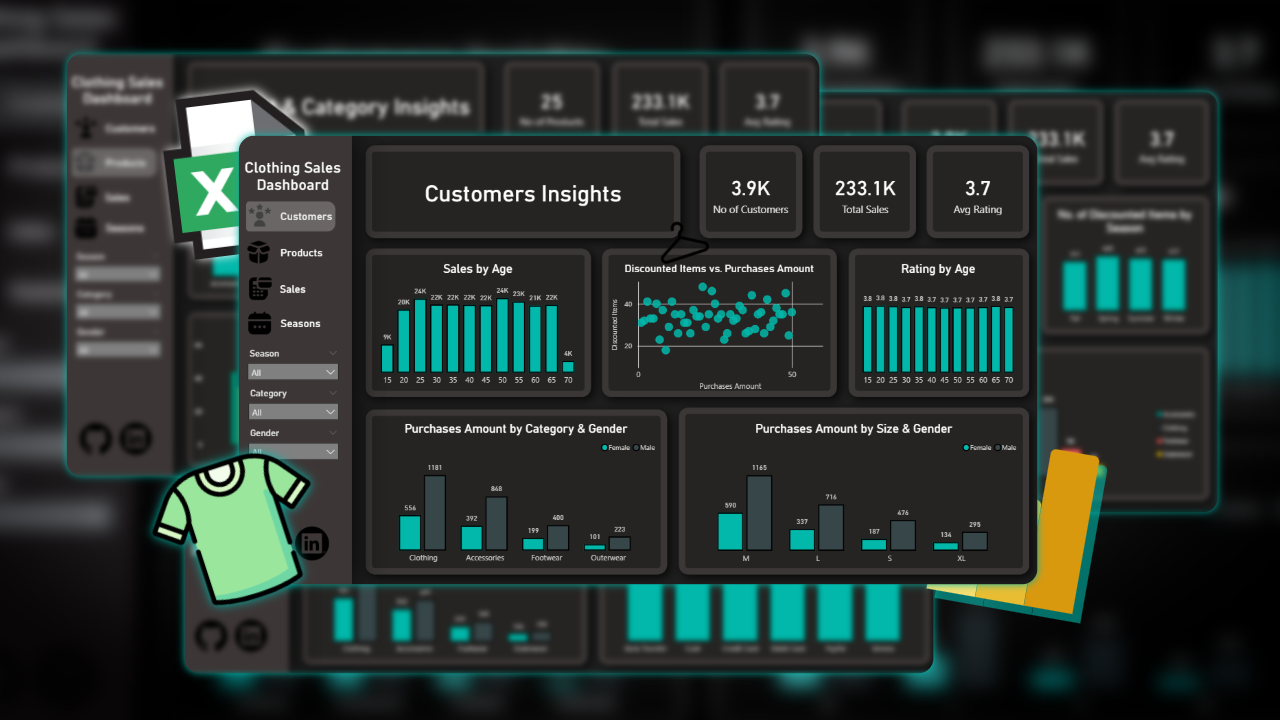

The dashboard page shown, as its layout file describes it:
{"tool":"powerbi","page":{"name":"Customers","canvas":[1280,720],"ordinal":0},"visuals":[{"type":"shape","box":[217.2,27.3,483.4,134.2],"z":0},{"type":"card","fields":{"Values":["shopping_behavior_updated.No of Customers"]},"box":[749.7,27.1,141.9,134.2],"z":1000},{"type":"card","fields":{"Values":["shopping_behavior_updated.Total Sales"]},"box":[931.6,27.1,141.9,134.2],"z":2000},{"type":"card","fields":{"Values":["shopping_behavior_updated.Avg Rating"]},"box":[1111.1,26.8,142,134.2],"z":3000},{"type":"clusteredColumnChart","title":"Rating by Age","fields":{"Category":["shopping_behavior_updated.Age (bins)"],"Y":["Avg(shopping_behavior_updated.Review Rating)"]},"box":[985.8,203.9,267.1,206.5],"z":4000},{"type":"scatterChart","title":"Discounted Items vs. Purchases Amount","fields":{"X":["shopping_behavior_updated.Previous Purchases"],"Y":["shopping_behavior_updated.Total Discount Applied"]},"box":[594.8,203.9,352.3,210.3],"z":5000},{"type":"lineClusteredColumnComboChart","title":"Purchases Amount by Category & Gender","fields":{"Category":["shopping_behavior_updated.Category"],"Series":["shopping_behavior_updated.Gender"],"Y":["CountNonNull(shopping_behavior_updated.Item Purchased)"]},"box":[217.2,458.3,460.5,234.6],"z":6000},{"type":"lineClusteredColumnComboChart","title":"Purchases Amount by Size & Gender","fields":{"Series":["shopping_behavior_updated.Gender"],"Y":["CountNonNull(shopping_behavior_updated.Item Purchased)"],"Category":["shopping_behavior_updated.Size"]},"box":[717.4,458.1,535.5,234.8],"z":7000},{"type":"shape","box":[0,0,185.5,134.2],"z":8000},{"type":"shape","box":[69.7,108.1,116.1,46.5],"z":9000},{"type":"image","box":[11.6,106.8,56.8,46.5],"z":10000},{"type":"shape","box":[69.7,166.2,116.1,46.5],"z":11000},{"type":"image","box":[15.5,164.9,46.5,47.7],"z":12000},{"type":"shape","box":[68.4,224.2,117.4,46.5],"z":13000},{"type":"image","box":[12.9,223.7,56.8,46.5],"z":14000},{"type":"shape","box":[69.8,278.2,116.1,46.5],"z":15000},{"type":"image","box":[11.8,278.2,56.8,46.5],"z":16000},{"type":"slicer","fields":{"Values":["shopping_behavior_updated.Season"]},"box":[11.1,337.4,164.8,63.3],"z":17000},{"type":"slicer","fields":{"Values":["shopping_behavior_updated.Category"]},"box":[12.2,400.7,163.7,63.3],"z":18000},{"type":"slicer","fields":{"Values":["shopping_behavior_updated.Gender"]},"box":[12.2,464,163.7,63.3],"z":19000},{"type":"image","box":[17.6,619.8,77.5,64.4],"z":20000},{"type":"image","box":[86.2,619.8,73.1,64.4],"z":21000},{"type":"shape","box":[18.1,108.4,141.9,47.7],"z":22000},{"type":"actionButton","box":[12.9,162.6,147.1,51.6],"z":23000},{"type":"actionButton","box":[10.9,221.5,147.3,51.3],"z":24000},{"type":"actionButton","box":[15.4,275.2,147.3,51.3],"z":25000},{"type":"clusteredColumnChart","title":"Sales by Age","fields":{"Y":["Sum(shopping_behavior_updated.Purchase Amount (USD))"],"Category":["shopping_behavior_updated.Age (bins)"]},"box":[216.8,203.9,339.4,206.5],"z":26000}]}

Visuals, with their boxes on the page's 1280x720 design canvas (x1, y1, x2, y2). These are canvas units, not pixel positions in the 1280x720 screenshot, which may show the page scaled, cropped or inside an application window:
shape: 217:27:701:162
card - shopping_behavior_updated.No of Customers: 750:27:892:161
card - shopping_behavior_updated.Total Sales: 932:27:1074:161
card - shopping_behavior_updated.Avg Rating: 1111:27:1253:161
"Rating by Age" clusteredColumnChart: 986:204:1253:410
"Discounted Items vs. Purchases Amount" scatterChart: 595:204:947:414
"Purchases Amount by Category & Gender" lineClusteredColumnComboChart: 217:458:678:693
"Purchases Amount by Size & Gender" lineClusteredColumnComboChart: 717:458:1253:693
shape: 0:0:186:134
shape: 70:108:186:155
image: 12:107:68:153
shape: 70:166:186:213
image: 16:165:62:213
shape: 68:224:186:271
image: 13:224:70:270
shape: 70:278:186:325
image: 12:278:69:325
slicer - shopping_behavior_updated.Season: 11:337:176:401
slicer - shopping_behavior_updated.Category: 12:401:176:464
slicer - shopping_behavior_updated.Gender: 12:464:176:527
image: 18:620:95:684
image: 86:620:159:684
shape: 18:108:160:156
actionButton: 13:163:160:214
actionButton: 11:222:158:273
actionButton: 15:275:163:326
"Sales by Age" clusteredColumnChart: 217:204:556:410
